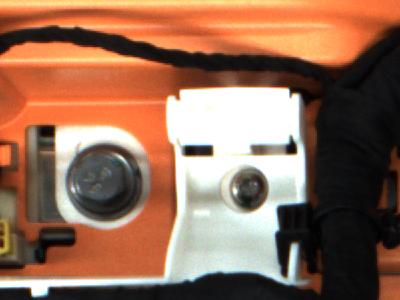nut_b: (59, 140, 147, 222)
